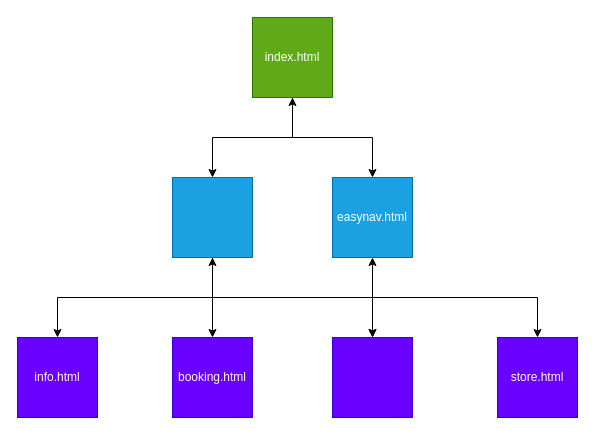
The diagram is 595 pixels wide and 435 high, and some of its shapes have lost their labels. Here are the shapes that lost their labels. From the top down, the centre of each, then its label:
pixel 212 217: main.html
pixel 372 377: stream.html
